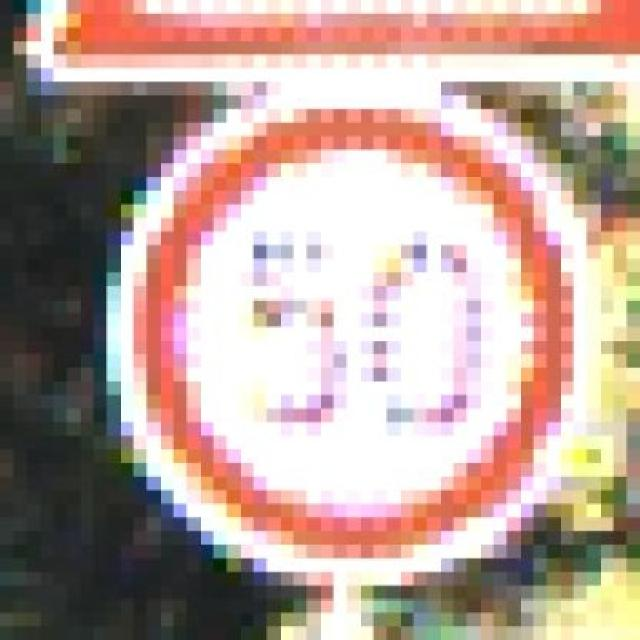forb_speed_over_50: (126, 103, 583, 557)
